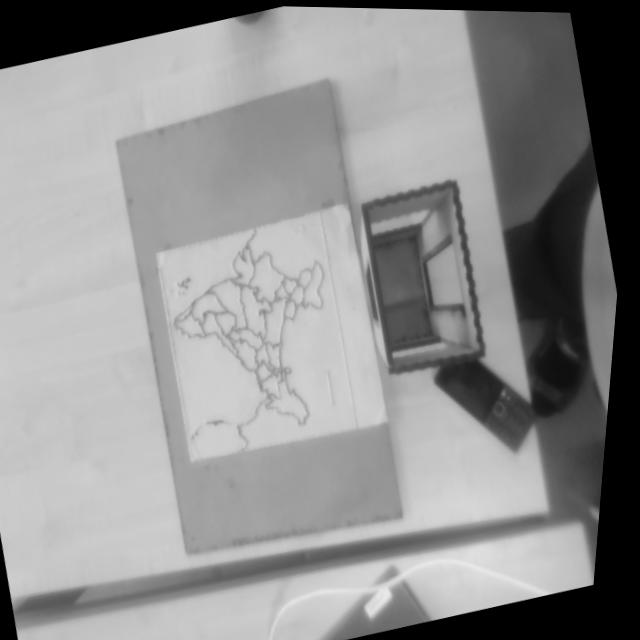map: (153, 210, 358, 461)
